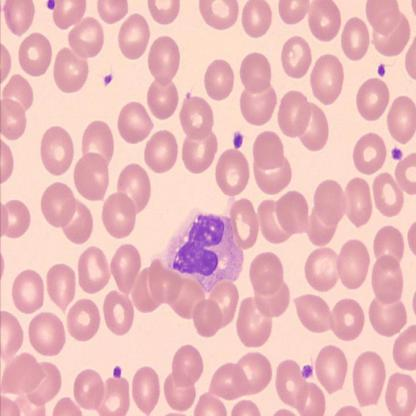Band Neutrophil: (151, 206, 245, 299)
